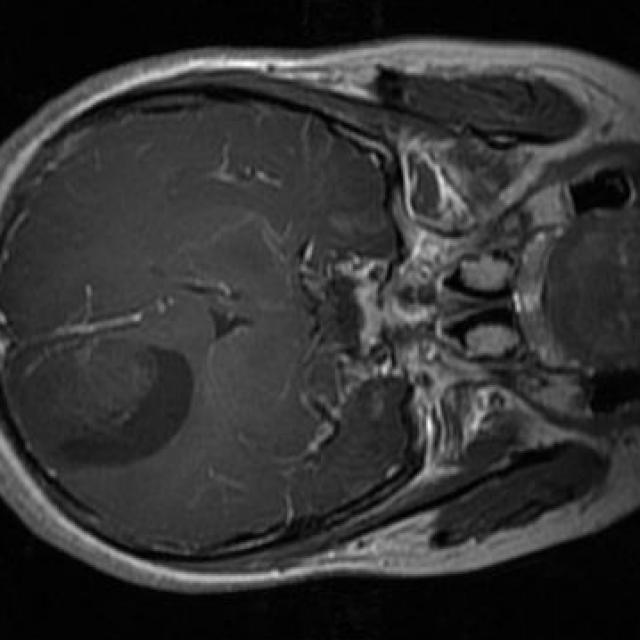glioma: (57, 346, 193, 465)
